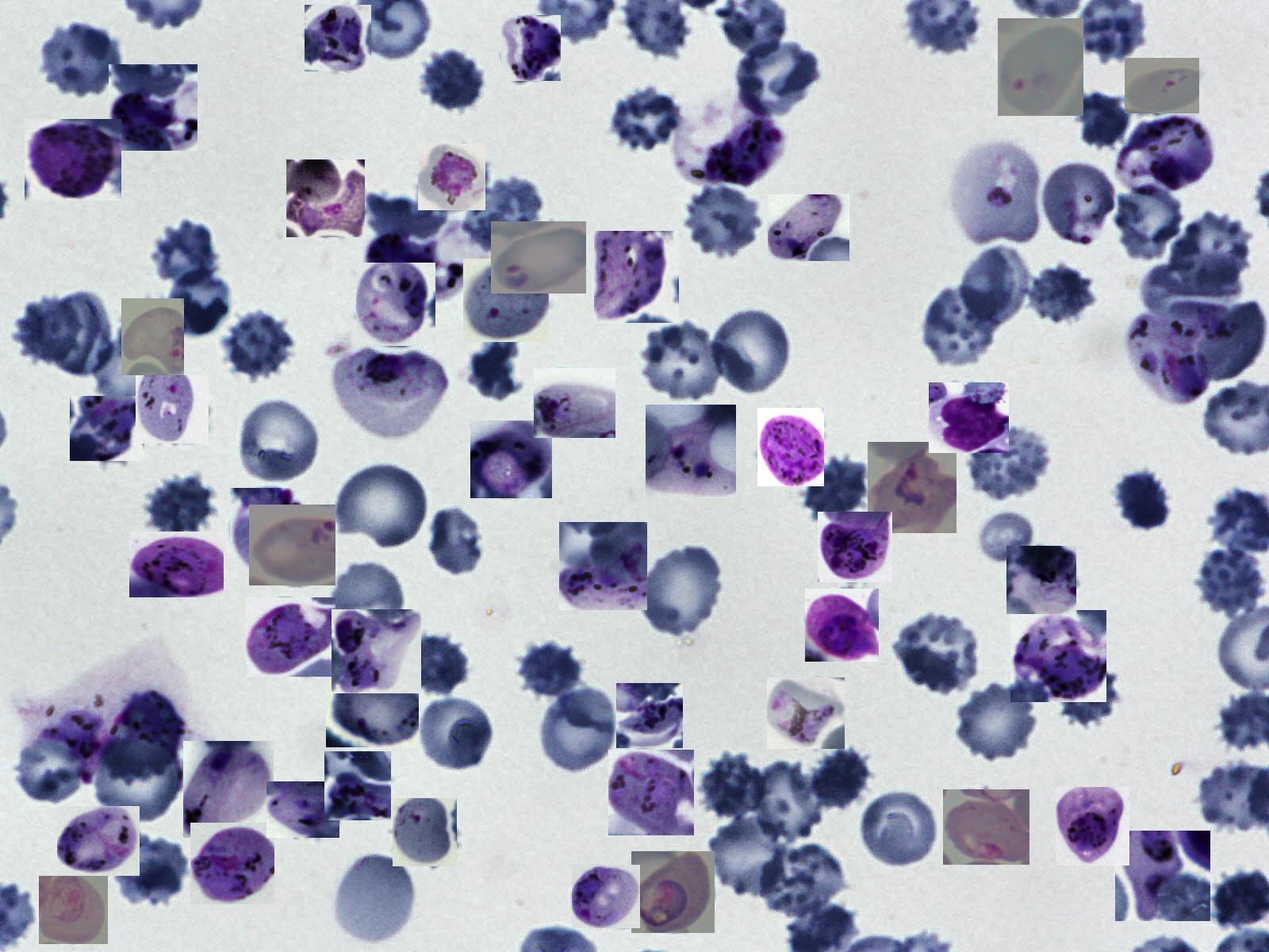Infected: (13, 639, 188, 785), (1124, 305, 1236, 408), (674, 89, 784, 188), (335, 343, 447, 440), (949, 133, 1045, 244), (363, 225, 486, 300), (1010, 610, 1106, 702), (183, 741, 274, 838), (1115, 831, 1210, 921), (1116, 111, 1215, 196), (646, 405, 736, 498), (998, 18, 1083, 116), (868, 442, 957, 533), (326, 662, 419, 748), (25, 119, 121, 201), (594, 231, 679, 323), (559, 522, 647, 610), (1040, 156, 1121, 251), (109, 64, 197, 151), (332, 609, 421, 693), (230, 488, 312, 578), (608, 750, 694, 835), (463, 259, 549, 343), (246, 597, 335, 677), (491, 221, 586, 294), (631, 851, 715, 933), (249, 505, 335, 585), (190, 823, 274, 904), (356, 263, 435, 346), (943, 789, 1029, 865), (470, 420, 552, 498), (129, 532, 224, 597), (286, 159, 365, 237), (57, 806, 140, 876), (1056, 787, 1129, 866), (929, 382, 1009, 453), (534, 368, 615, 438), (768, 678, 845, 749), (768, 194, 849, 261), (805, 589, 879, 662), (757, 408, 824, 486), (818, 512, 892, 582), (136, 375, 209, 443), (121, 298, 184, 375), (70, 396, 144, 461), (1006, 546, 1076, 614), (39, 876, 108, 944), (324, 751, 391, 820), (418, 144, 485, 210), (617, 684, 684, 749), (305, 6, 372, 71), (393, 798, 457, 866), (572, 865, 640, 928), (266, 781, 339, 838), (1125, 58, 1199, 113), (501, 15, 561, 81)
Uninfected: (90, 726, 183, 825), (333, 459, 431, 551), (638, 541, 727, 639), (331, 850, 418, 948), (236, 397, 322, 486), (640, 322, 730, 405), (753, 842, 849, 919), (953, 679, 1042, 762), (734, 33, 825, 114), (710, 308, 793, 396), (35, 17, 125, 98), (893, 611, 980, 694), (538, 685, 619, 774), (857, 785, 941, 869), (918, 286, 1003, 369), (965, 424, 1053, 501), (681, 182, 764, 263), (708, 816, 788, 899), (328, 559, 407, 643), (1171, 212, 1250, 294), (459, 175, 543, 250), (1195, 298, 1269, 382), (417, 693, 495, 771), (92, 328, 169, 406), (140, 468, 224, 537), (48, 288, 113, 377), (957, 243, 1029, 323), (754, 761, 822, 844), (1114, 182, 1183, 261), (1050, 651, 1121, 727), (159, 260, 230, 336), (221, 309, 297, 378), (397, 631, 476, 696), (1194, 547, 1264, 617), (800, 455, 872, 522), (609, 86, 682, 152), (117, 841, 196, 901), (13, 297, 82, 365), (700, 750, 768, 819), (13, 740, 83, 807), (1024, 258, 1095, 322), (420, 48, 485, 114), (808, 744, 872, 810), (151, 216, 214, 282), (517, 639, 585, 700), (1075, 86, 1133, 150), (430, 505, 481, 575), (1114, 467, 1170, 530)
